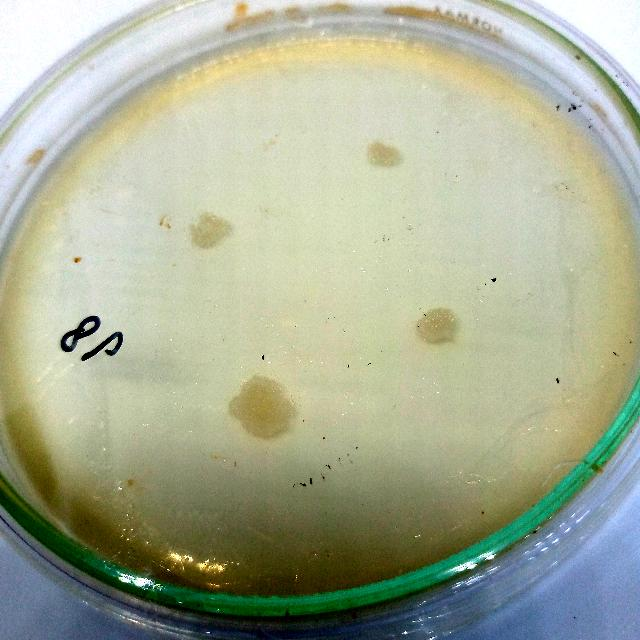colony: (224, 370, 304, 446), (406, 300, 464, 358), (186, 208, 238, 256), (362, 135, 406, 175)
